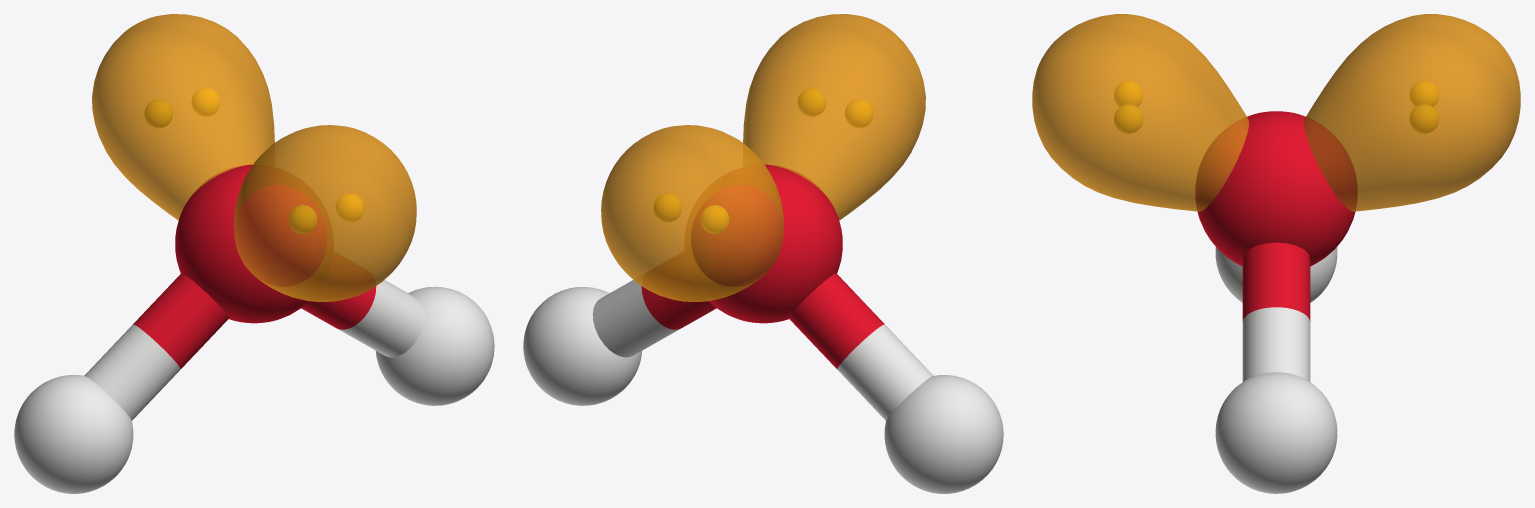
The picture shows the model from 3 angles, left to right: view 1: azimuth 30°, elevation 25°; view 2: azimuth 150°, elevation 25°; view 3: azimuth 270°, elevation 25°; orthographic projection. The views are drawn at different scales.
Visible parts, largest first — view 1: D1; view 2: D1; view 3: D1.
Part boxes in pixels (x1,y1,x2,y2): D1: [14, 14, 494, 493]; D1: [523, 14, 1003, 493]; D1: [1032, 14, 1520, 493].
Bounding box in the file's own units: 24.39 × 18.4 × 21.69.
